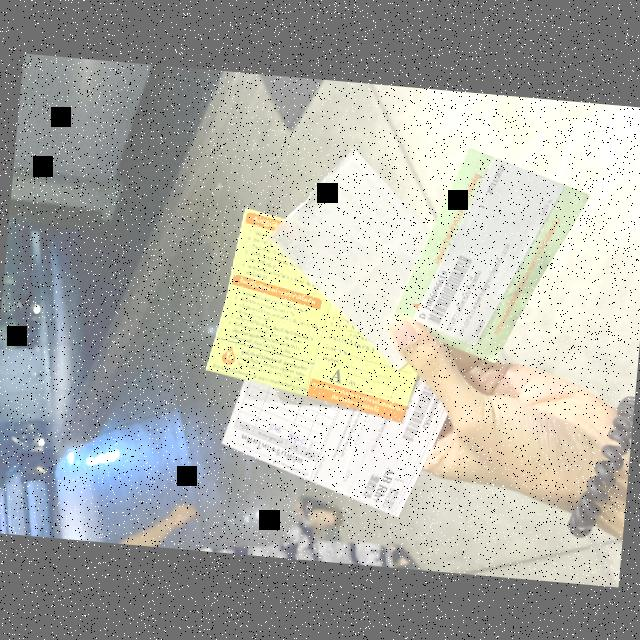scrap_paper: (201, 196, 433, 418), (384, 130, 595, 372), (212, 329, 450, 522), (258, 137, 443, 354)
